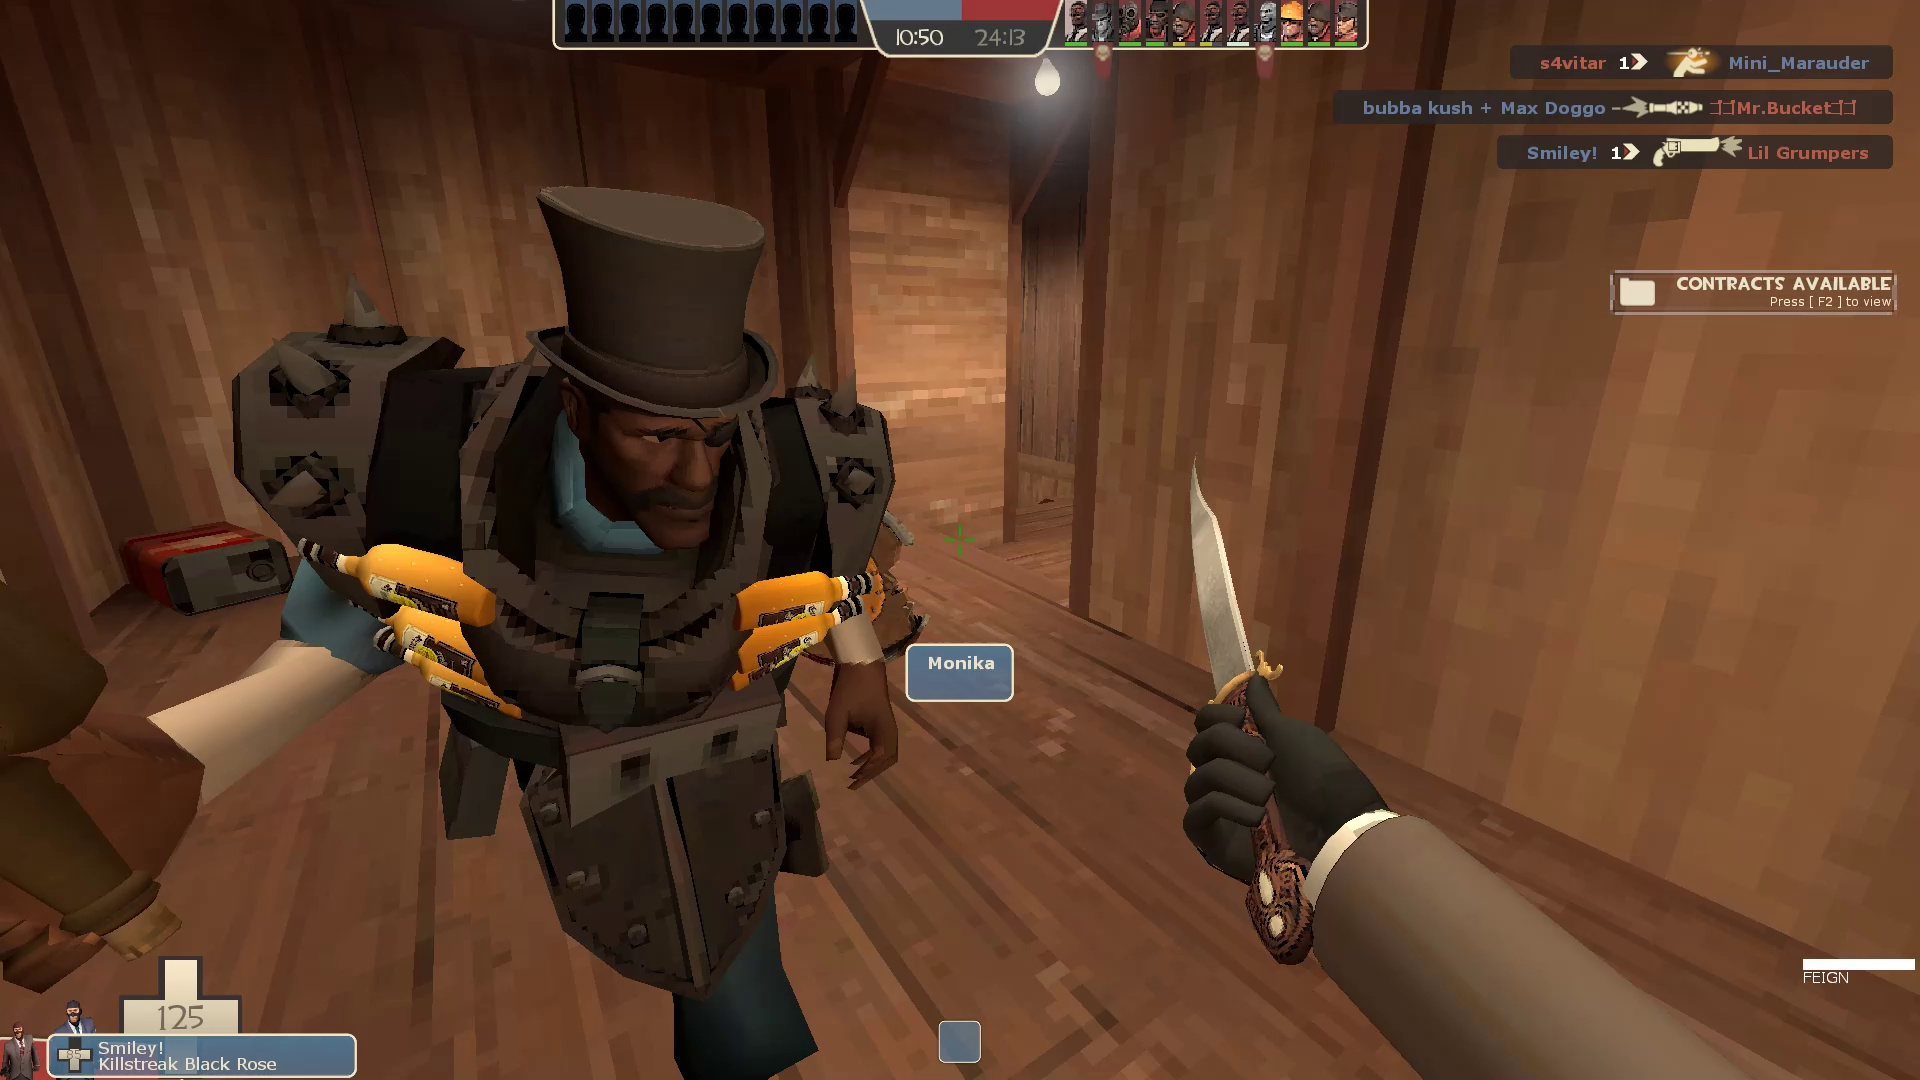blu_demo: (1, 175, 942, 1080)
